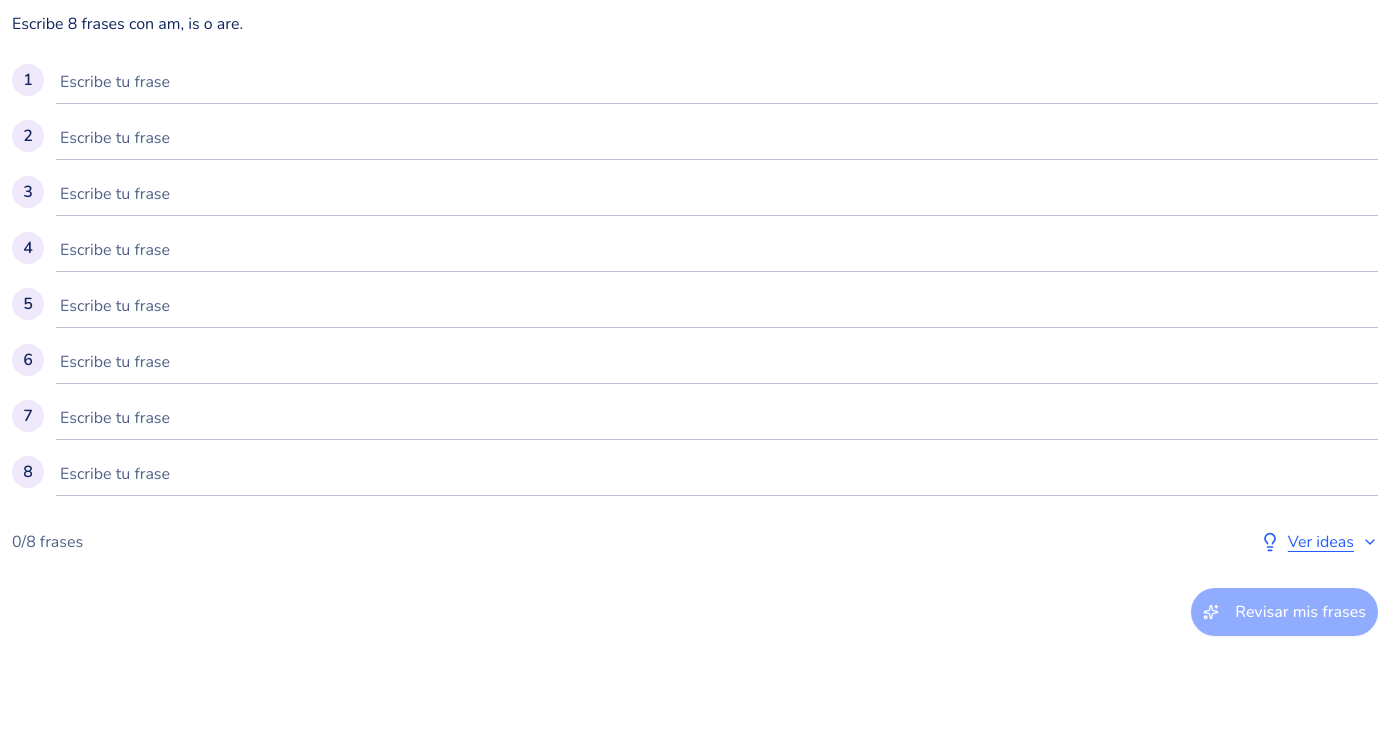
Scenario: Unit 1 sentence production › keeps idea help collapsed until the student asks for it
Click the button "Ver ideas".
click(1319, 542)  # box [1260, 520, 1378, 564]
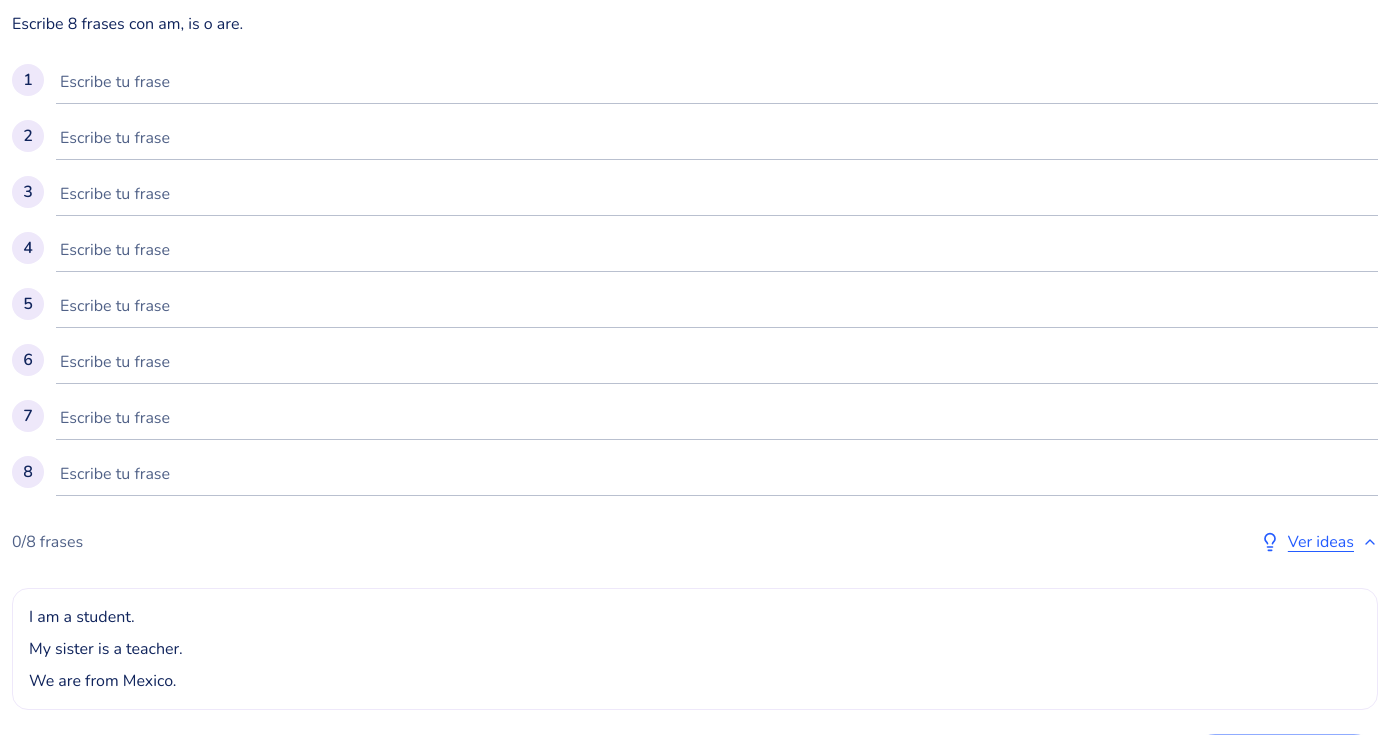
Now the list named "Ideas para tus frases" is shown, box [12, 588, 1378, 710]
